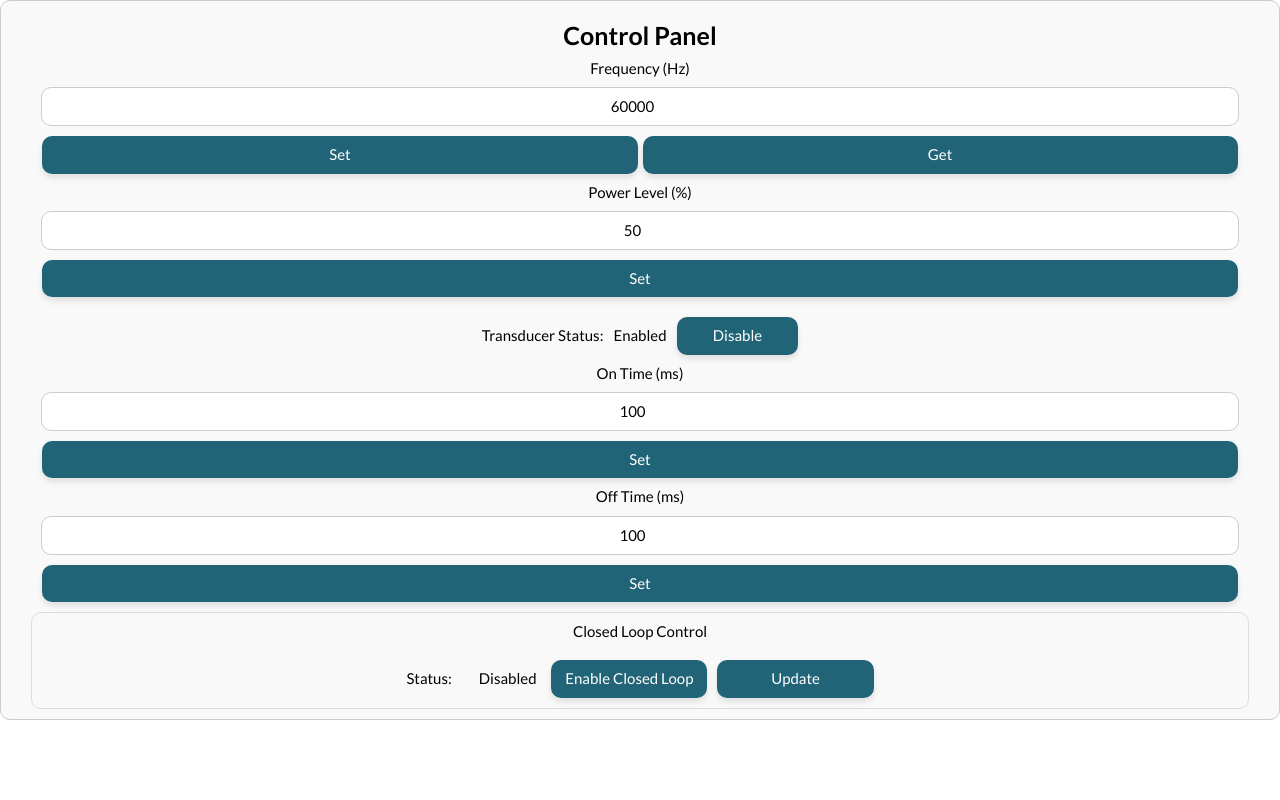
Test case: ControlPanel › when connected › displays error message when request fails
The width and height of the screenshot is (1280, 800).
Click the button "Set" below "Frequency (Hz)": {"x": 340, "y": 155} x1=42 y1=136 x2=638 y2=174
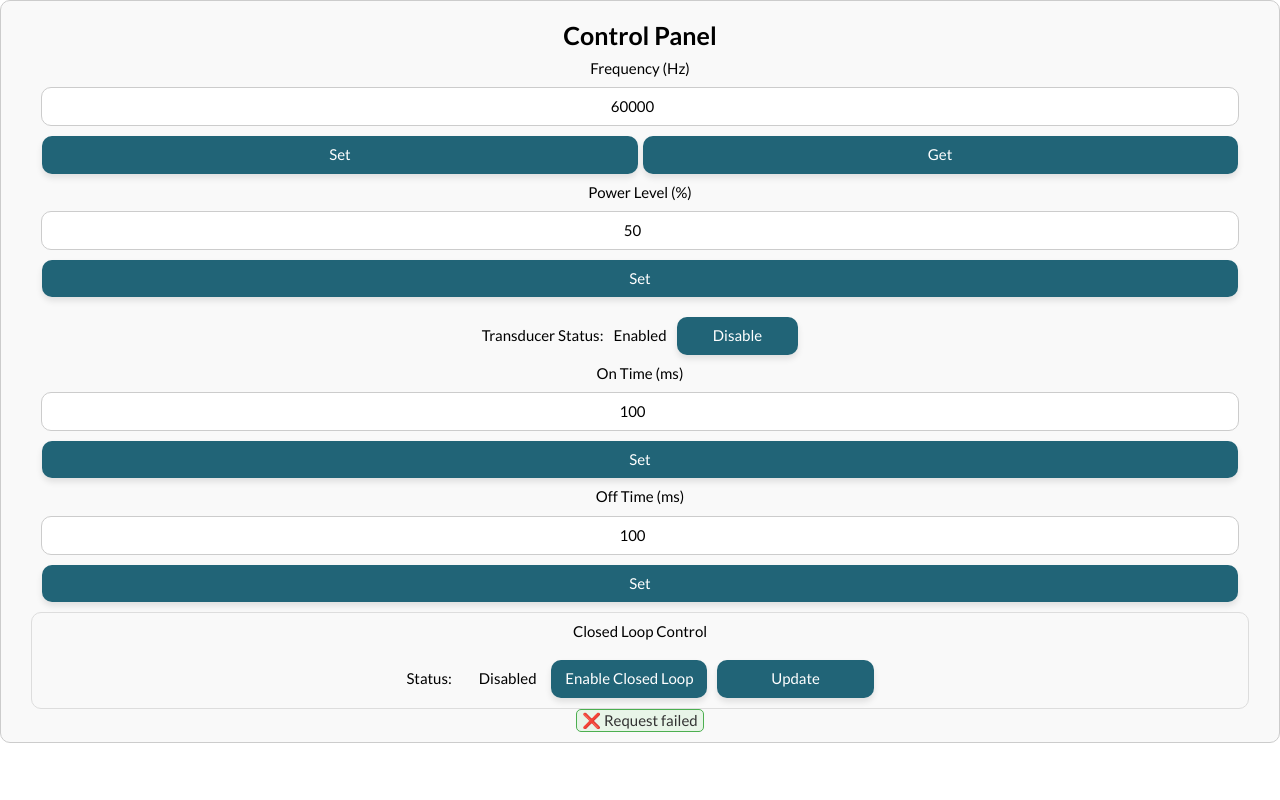
expect the text "❌ Request failed" is shown: met, box x1=576 y1=708 x2=704 y2=732
